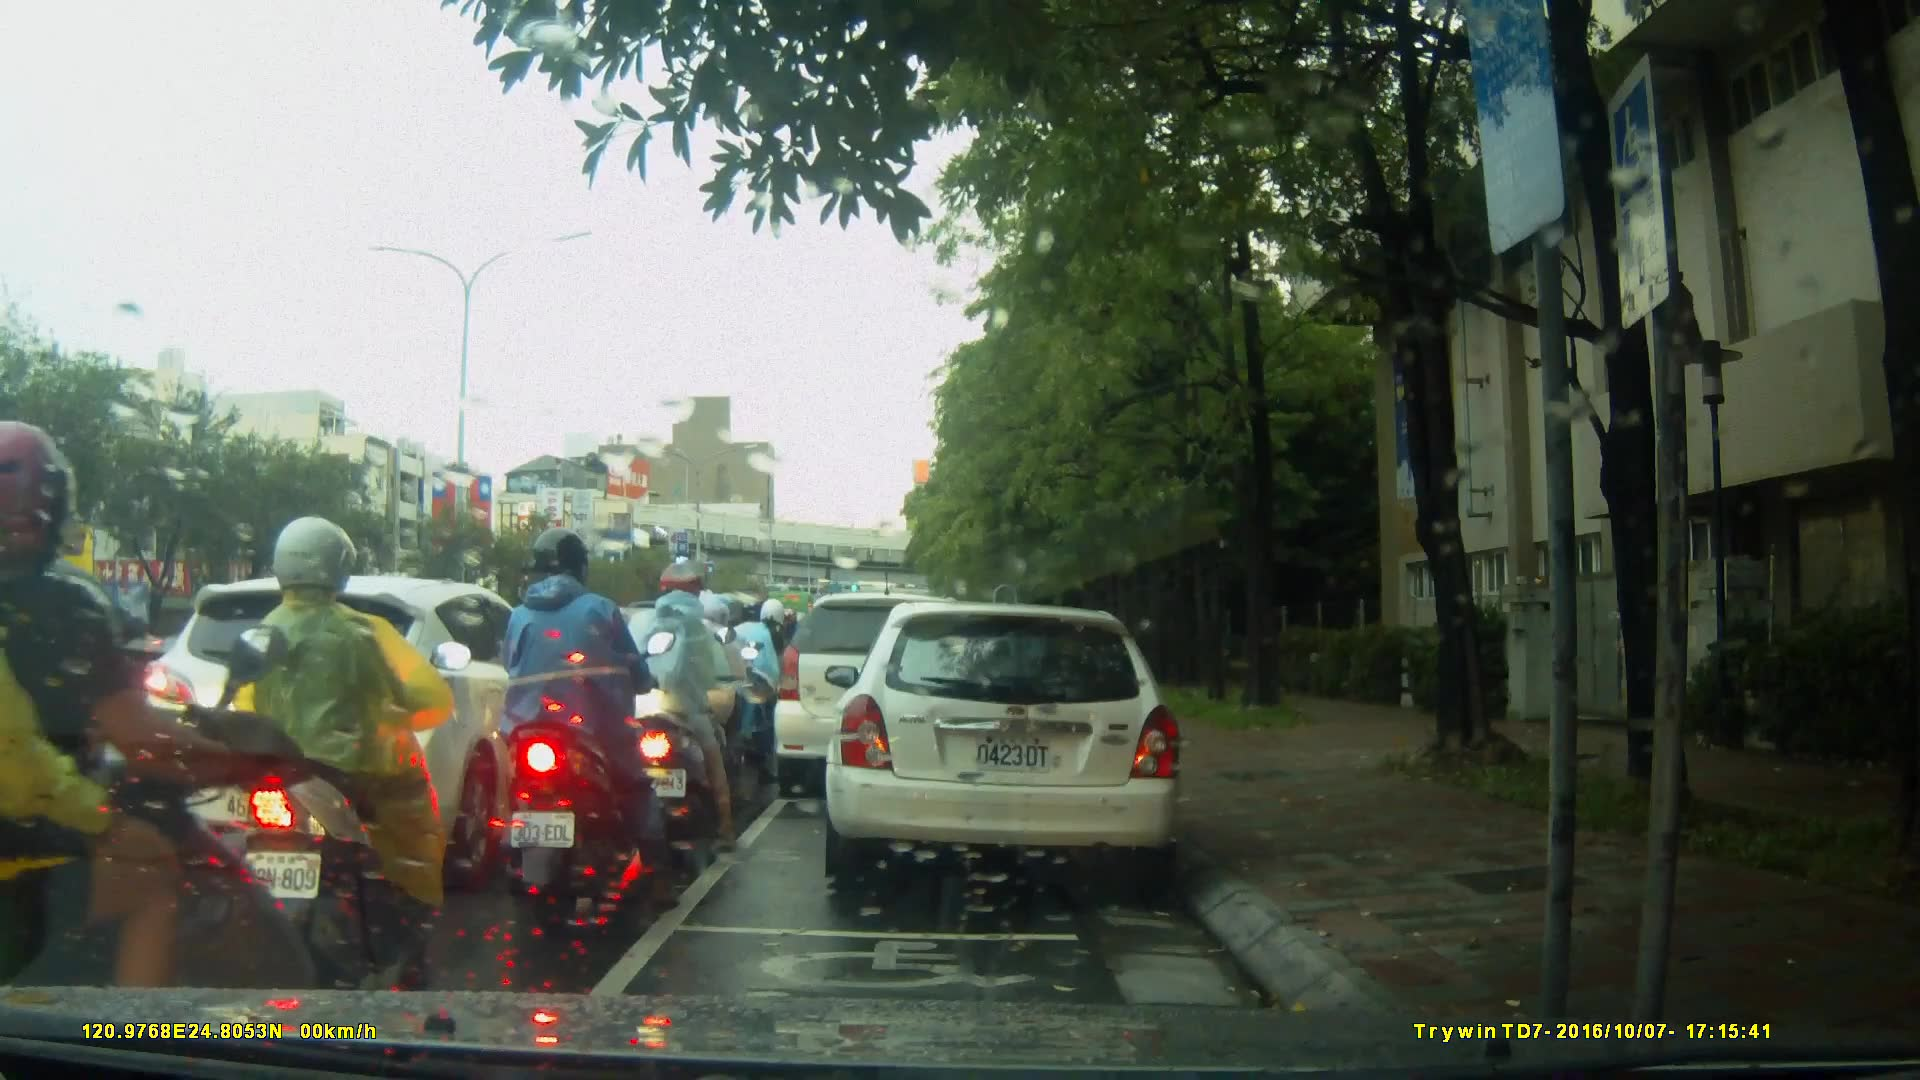rider: (1, 402, 312, 1077), (238, 519, 475, 998), (497, 527, 682, 915), (608, 560, 736, 847), (649, 583, 762, 823), (729, 596, 792, 759)
vehicle: (136, 574, 596, 869), (822, 604, 1188, 883), (774, 595, 995, 802)
